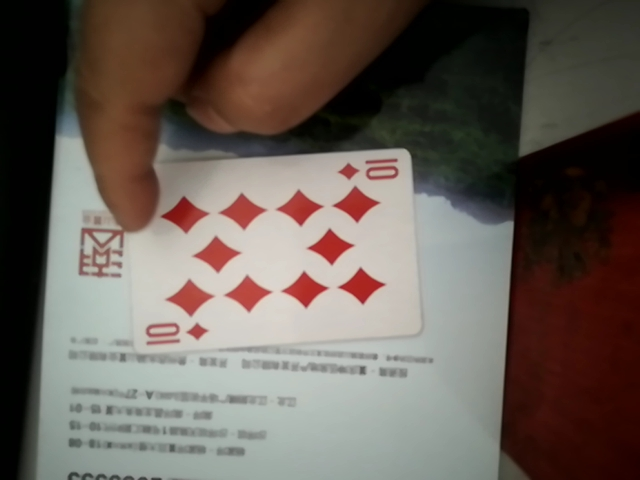fk 10: (122, 147, 420, 356)
